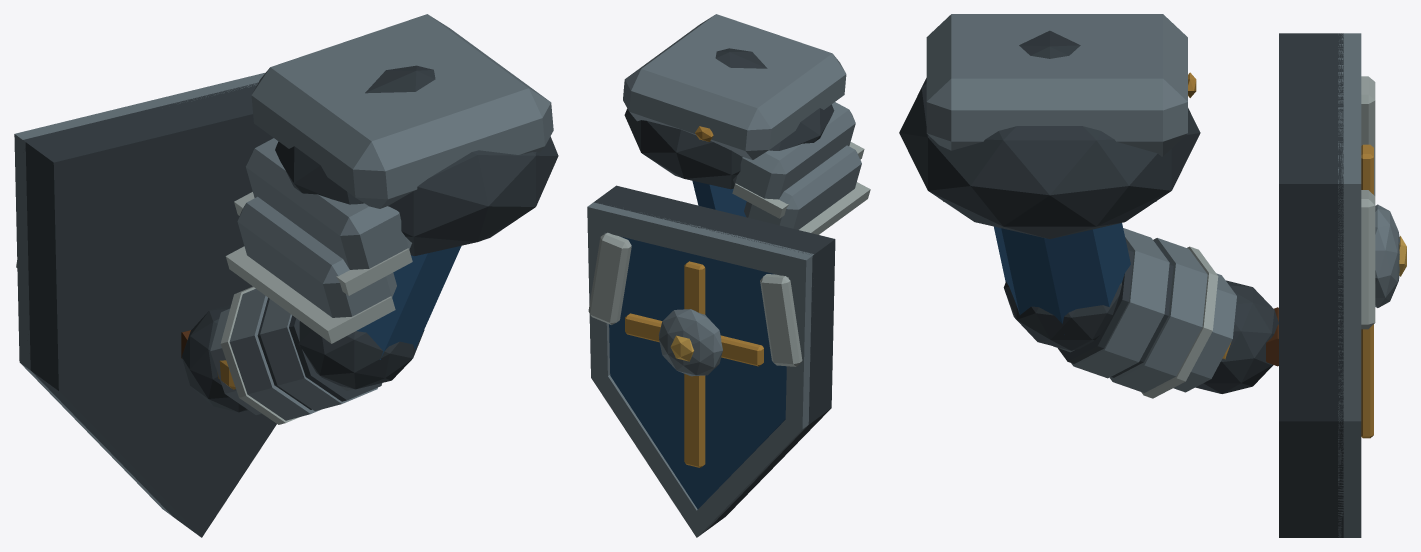
File: ArmLeft.glb
3 renders of one model, left to right at view 1: azimuth 30°, elevation 25°; view 2: azimuth 150°, elevation 25°; view 3: azimuth 270°, elevation 25°, orthographic. The views are drawn at different scales.
Visible parts, largest first — view 1: Sculpture; view 2: Sculpture; view 3: Sculpture.
Part boxes in pixels (box(x1,y1,x2,y2)): Sculpture: box(14, 14, 558, 537); Sculpture: box(587, 14, 870, 537); Sculpture: box(899, 14, 1406, 537).
Size of the model in its own units: 0.735 by 0.9791 by 0.8252.
